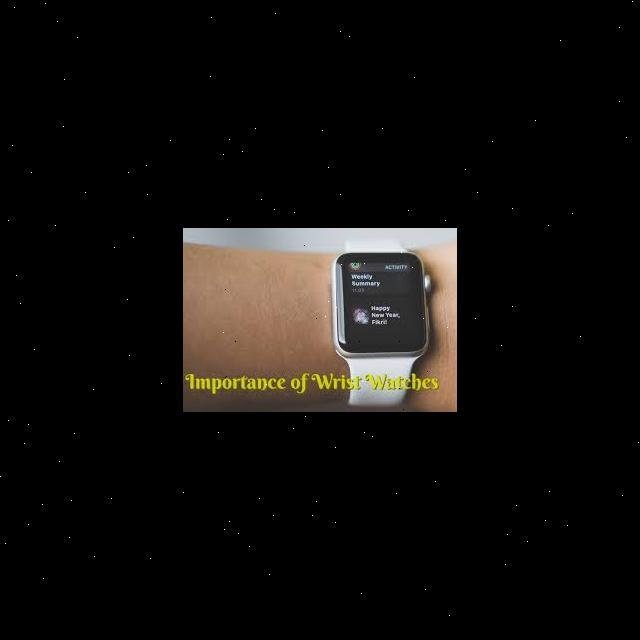watch: (320, 229, 452, 426)
